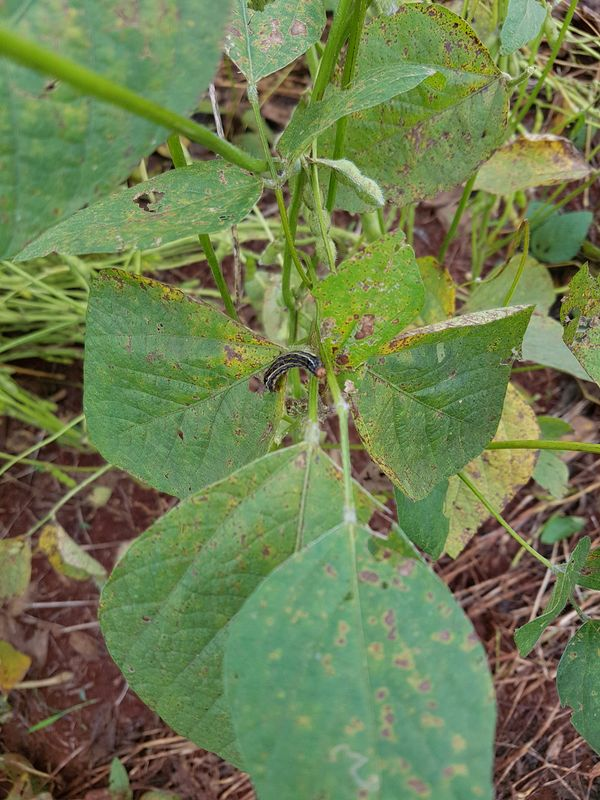Spodoptera_albula: (251, 338, 338, 406)
